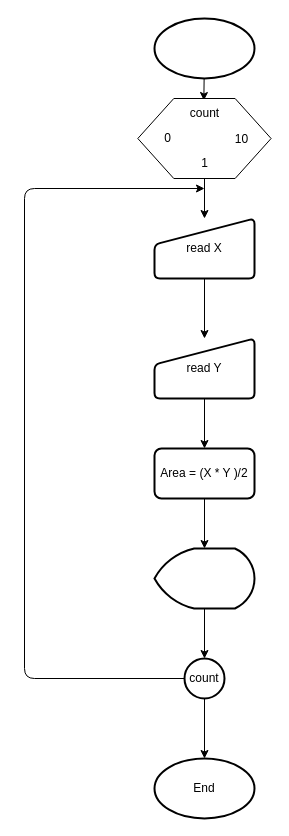
The diagram is 289 pixels wide and 836 high, and some of its shapes have lost their labels. The shapes that lost their labels are listed below. From the top down, each one's centre as x and y in pixels, then its label:
the point at 204,48: Start
the point at 204,578: print Area
